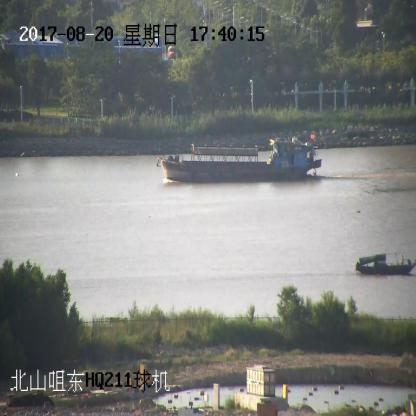Fishing Boat: (155, 133, 322, 181), (355, 252, 415, 276)
